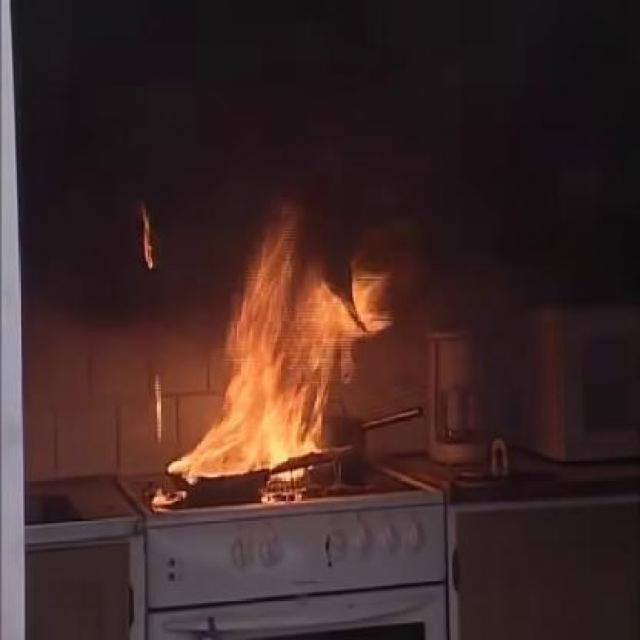fire: (195, 292, 338, 454)
smoke: (232, 101, 331, 254), (367, 218, 505, 298)
